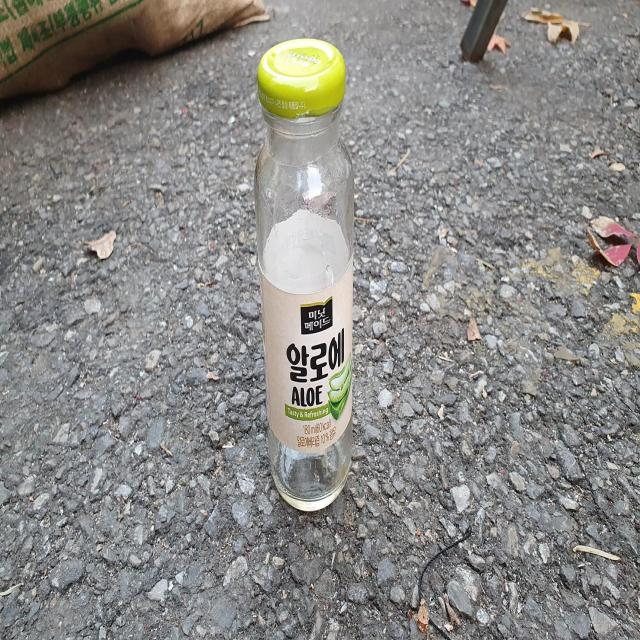glass: (254, 37, 354, 511)
